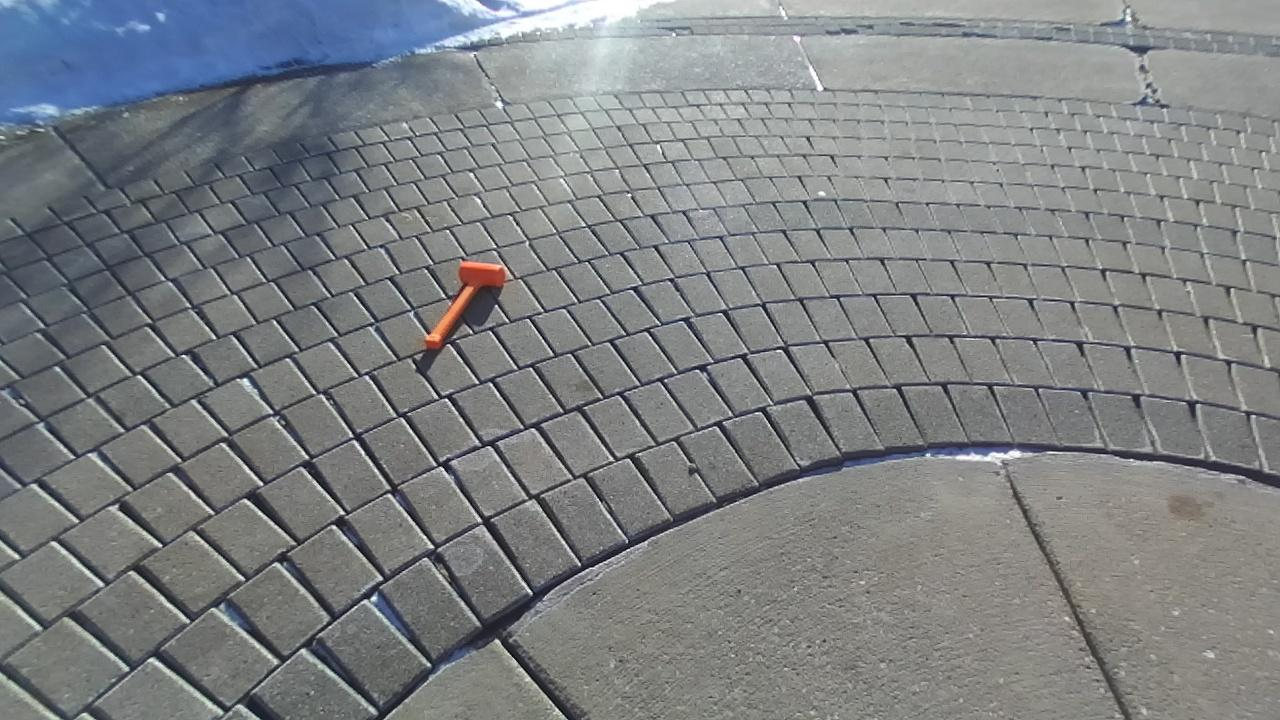mallet: (425, 260, 506, 350)
